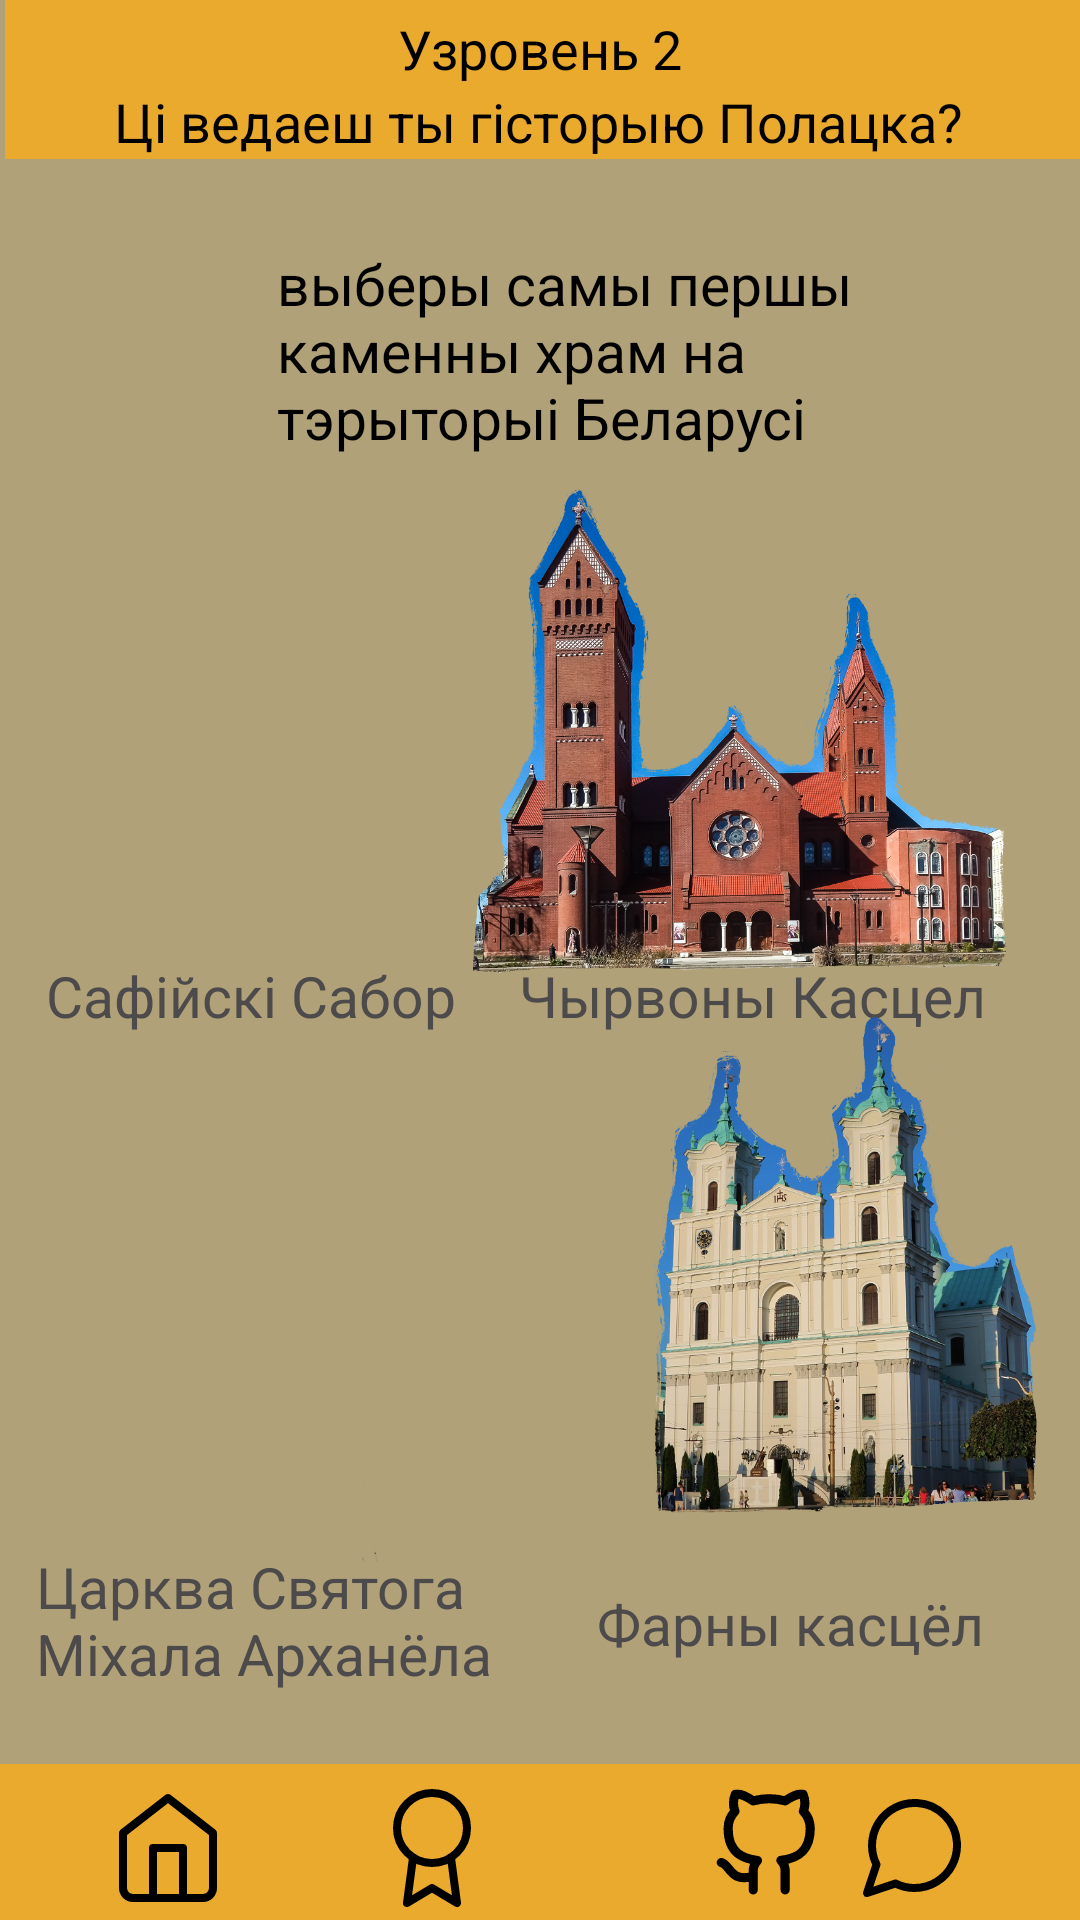

Locate icon controls on the screen. Image size 1080w x 1920h, boxes as (x1, y1, x2, y2).
award: (393, 1789, 471, 1908)
home: (119, 1794, 217, 1902)
message circle: (863, 1799, 961, 1897)
